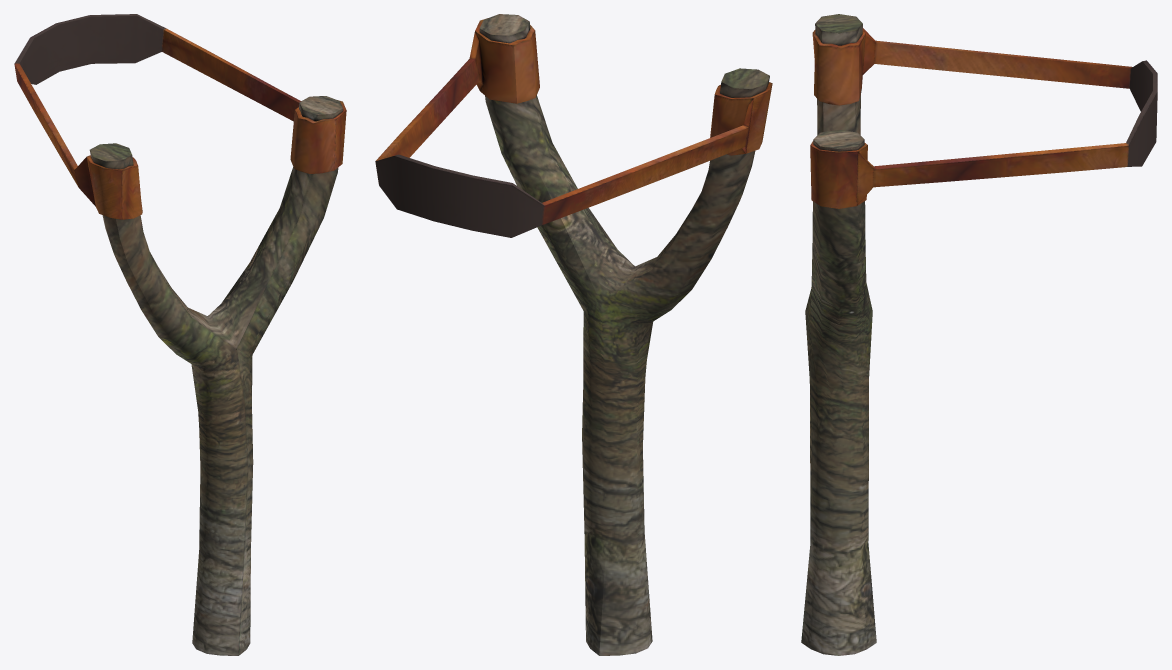
File: Slingshot.fbx
3 views of the same model, side by side, from view 1: azimuth 30°, elevation 25°; view 2: azimuth 150°, elevation 25°; view 3: azimuth 270°, elevation 25° (orthographic). The views are drawn at different scales.
Visible parts, largest first — view 1: Cube.005; view 2: Cube.005; view 3: Cube.005.
Boxes of the visible parts, x1=… form: Cube.005: x1=14, y1=14, x2=346, y2=655; Cube.005: x1=375, y1=14, x2=772, y2=655; Cube.005: x1=801, y1=14, x2=1157, y2=655.
Size of the model in its own units: 472 by 924 by 532.
Materials: 1 (1 with a texture image).
